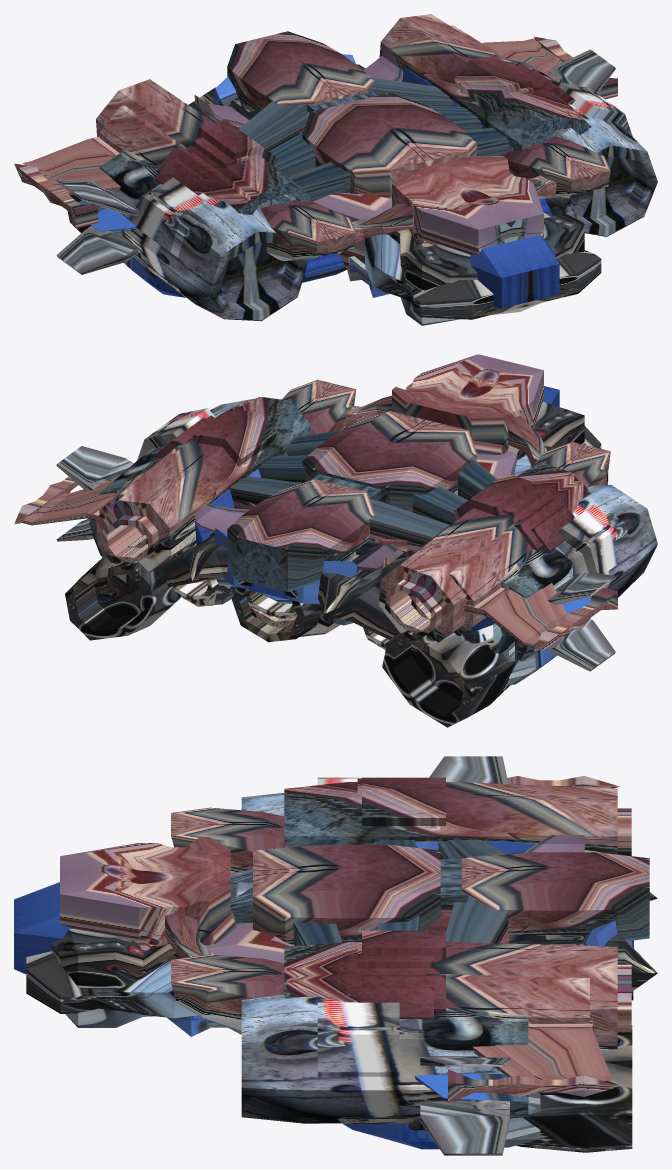
Rendered from majadroid-readytofly.glb.
3 views of the same model, one above another, from view 1: azimuth 30°, elevation 25°; view 2: azimuth 150°, elevation 25°; view 3: azimuth 270°, elevation 25° (orthographic). The views are drawn at different scales.
Visible parts, largest first — view 1: M1_Ship_5, M2_Ship_3, M1_Ship_3, M1_Ship_4, M4_Ship_3, M3_Ship_3, M4_Ship_2, M3_Ship_2; view 2: M1_Ship_5, M4_Ship_3, M2_Ship_3, M1_Ship_3, M1_Ship_4, M4_Ship_2, M3_Ship_3, M3_Ship_2; view 3: M1_Ship_5, M2_Ship_3, M1_Ship_3, M1_Ship_4, M4_Ship_3, M3_Ship_3, M4_Ship_2, M3_Ship_2.
Part boxes in pixels (x1,y1,x2,y2): M1_Ship_5: (22, 14, 588, 246); M2_Ship_3: (56, 49, 657, 321); M1_Ship_3: (194, 48, 610, 260); M1_Ship_4: (14, 25, 617, 270); M4_Ship_3: (67, 64, 601, 319); M3_Ship_3: (78, 54, 568, 309); M4_Ship_2: (389, 212, 584, 325); M3_Ship_2: (123, 198, 552, 297); M1_Ship_5: (22, 397, 577, 647); M4_Ship_3: (65, 426, 601, 727); M2_Ship_3: (56, 398, 657, 671); M1_Ship_3: (194, 354, 610, 636); M1_Ship_4: (14, 400, 617, 650); M4_Ship_2: (172, 382, 584, 649); M3_Ship_3: (194, 386, 590, 631); M3_Ship_2: (493, 623, 556, 685); M1_Ship_5: (138, 777, 649, 1080); M2_Ship_3: (241, 756, 556, 1155); M1_Ship_3: (60, 807, 584, 1030); M1_Ship_4: (203, 776, 619, 1102); M4_Ship_3: (26, 892, 657, 1152); M3_Ship_3: (14, 841, 633, 1101); M4_Ship_2: (51, 928, 180, 1027); M3_Ship_2: (230, 882, 540, 1149).
Bounding box in the file's own units: 52.89 × 15 × 46.05.
Materials: 4 (4 with a texture image).
